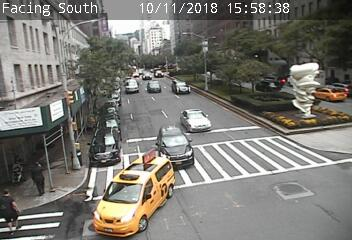car: (94, 157, 174, 236), (158, 126, 193, 167), (181, 109, 211, 133), (172, 80, 190, 94), (147, 81, 160, 93), (142, 73, 152, 79), (153, 71, 163, 77)
